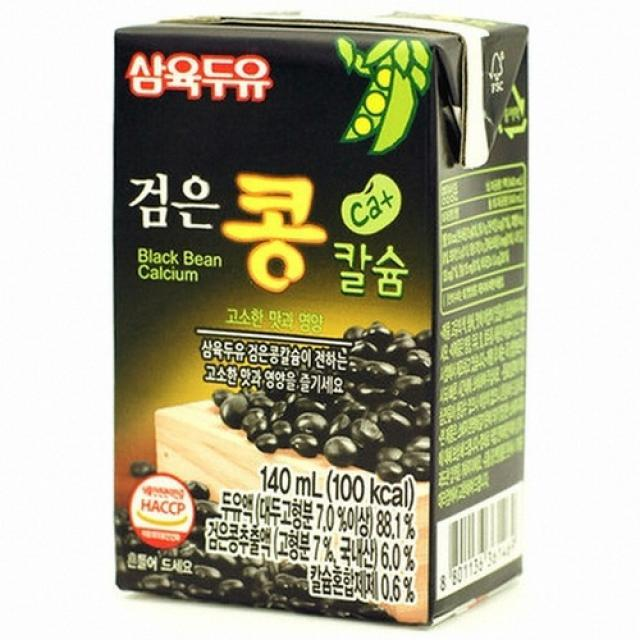Tetra: (104, 5, 537, 640)
